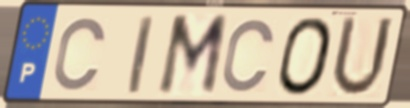C: (218, 17, 278, 96), (50, 15, 109, 94)
I: (126, 13, 157, 97)
M: (154, 12, 232, 99)
O: (275, 14, 336, 98)
U: (327, 13, 397, 101)
